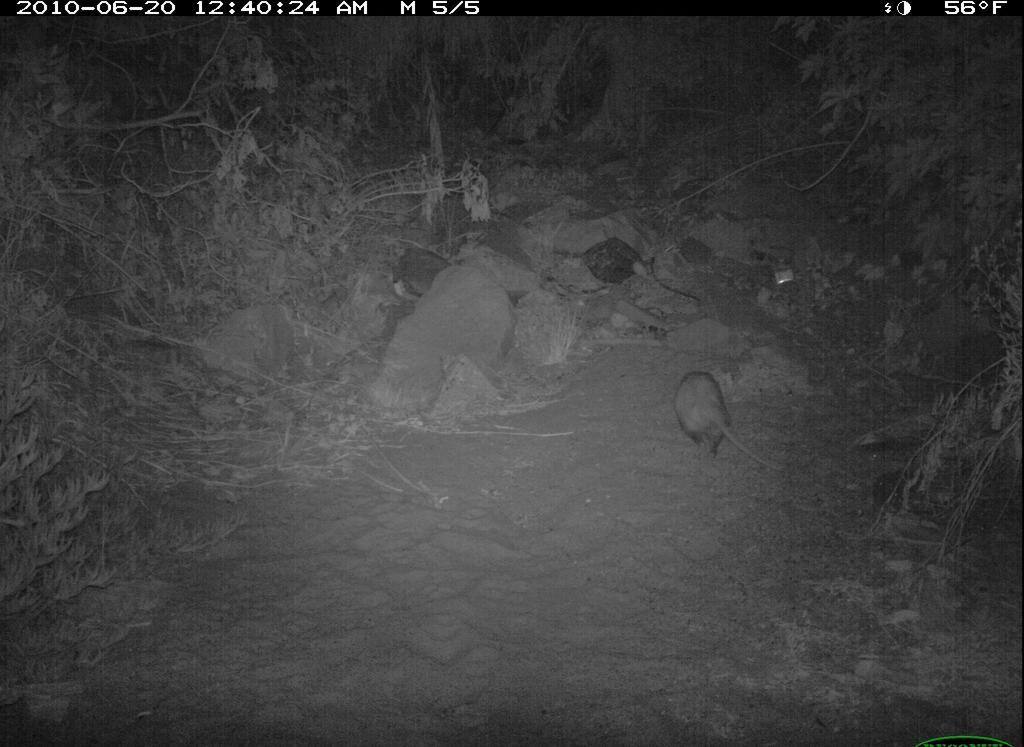opossum: (666, 363, 790, 488)
